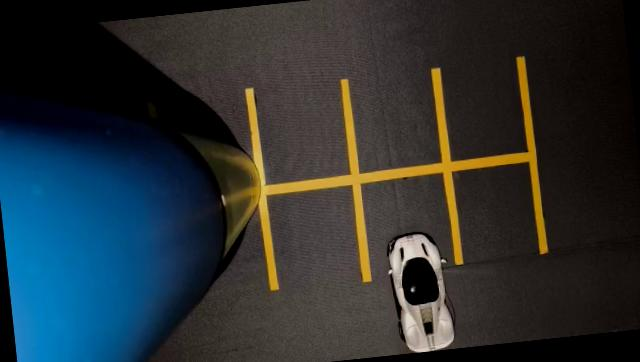toy_car: (362, 209, 468, 357)
